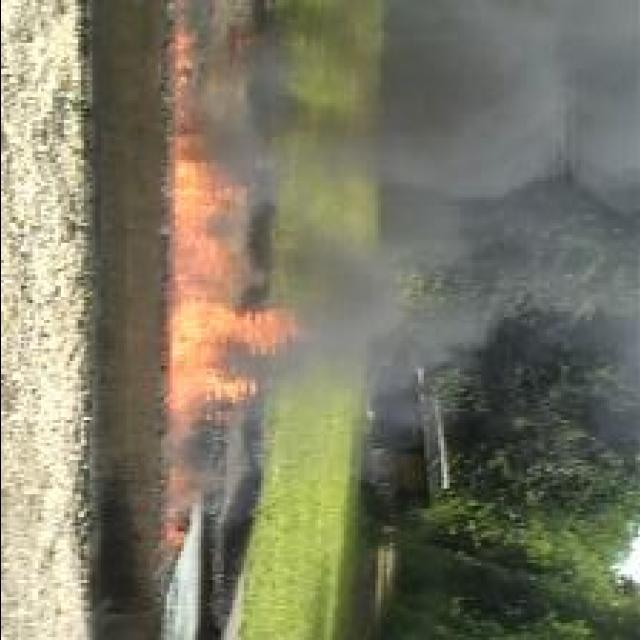Fire: (166, 0, 306, 560)
